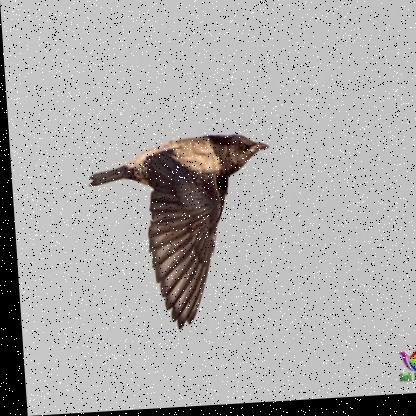Burung: (85, 133, 277, 335)
